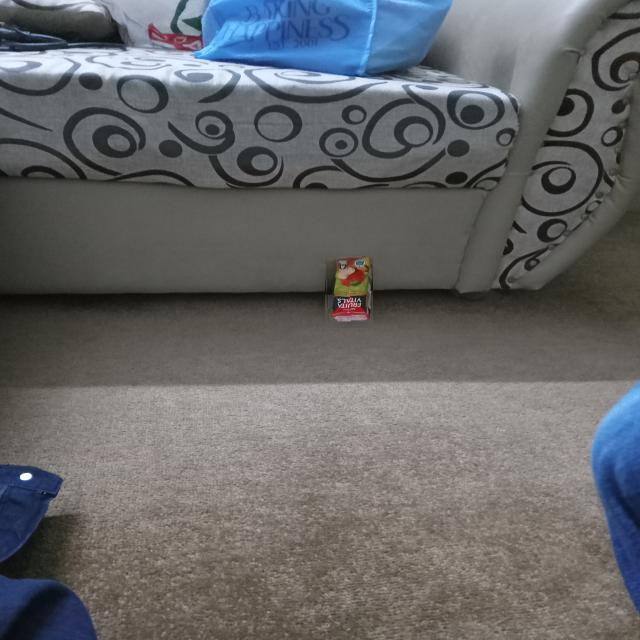Plastic: (324, 256, 373, 328)
